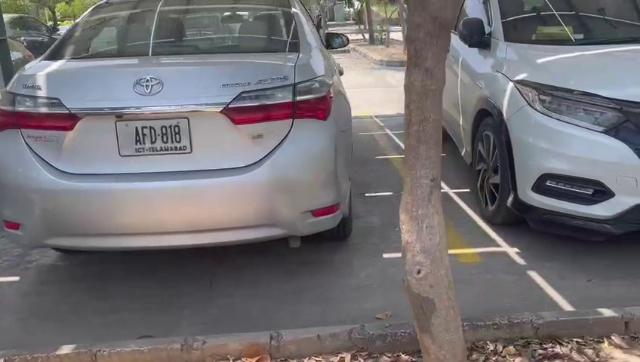plate: (111, 116, 195, 154)
